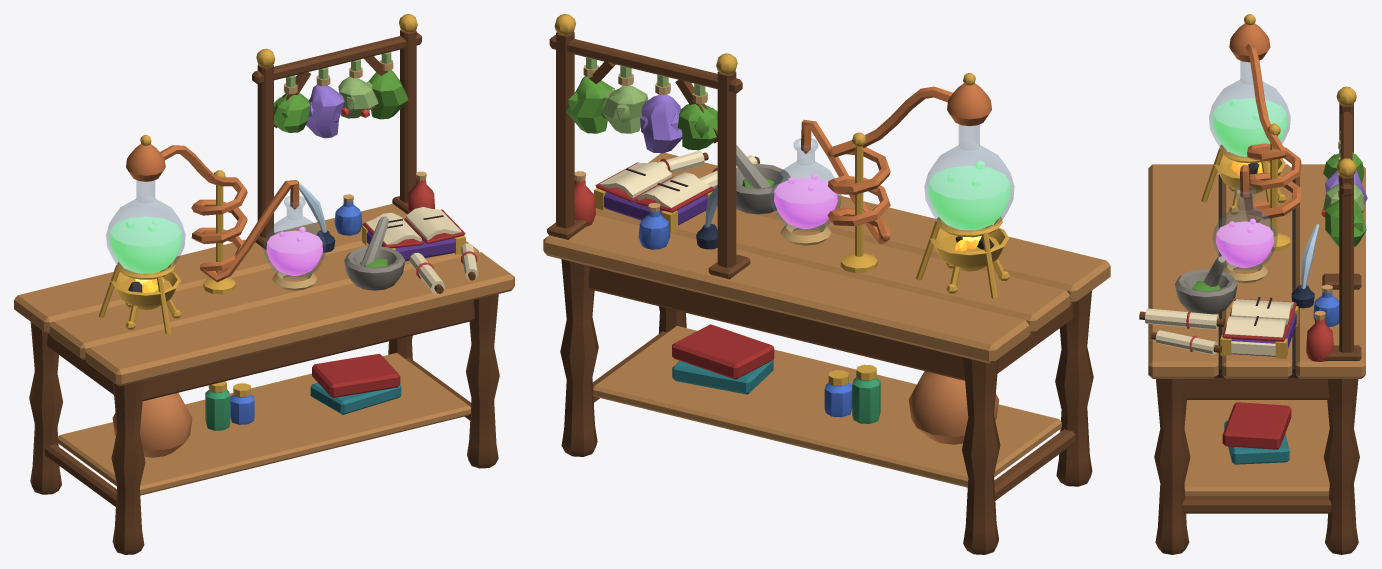
File: prop_alchemy_table.glb
The picture shows the model from 3 angles, left to right: view 1: azimuth 30°, elevation 25°; view 2: azimuth 150°, elevation 25°; view 3: azimuth 270°, elevation 25°; orthographic projection. The views are drawn at different scales.
Visible parts, largest first — view 1: AlchemyTable; view 2: AlchemyTable; view 3: AlchemyTable.
Part boxes in pixels (<box>): AlchemyTable: <box>14,14,514,554</box>; AlchemyTable: <box>543,14,1110,554</box>; AlchemyTable: <box>1139,14,1367,554</box>.
Size of what is drawn, in the model's own units: 1.96 by 1.8 by 0.9436.
